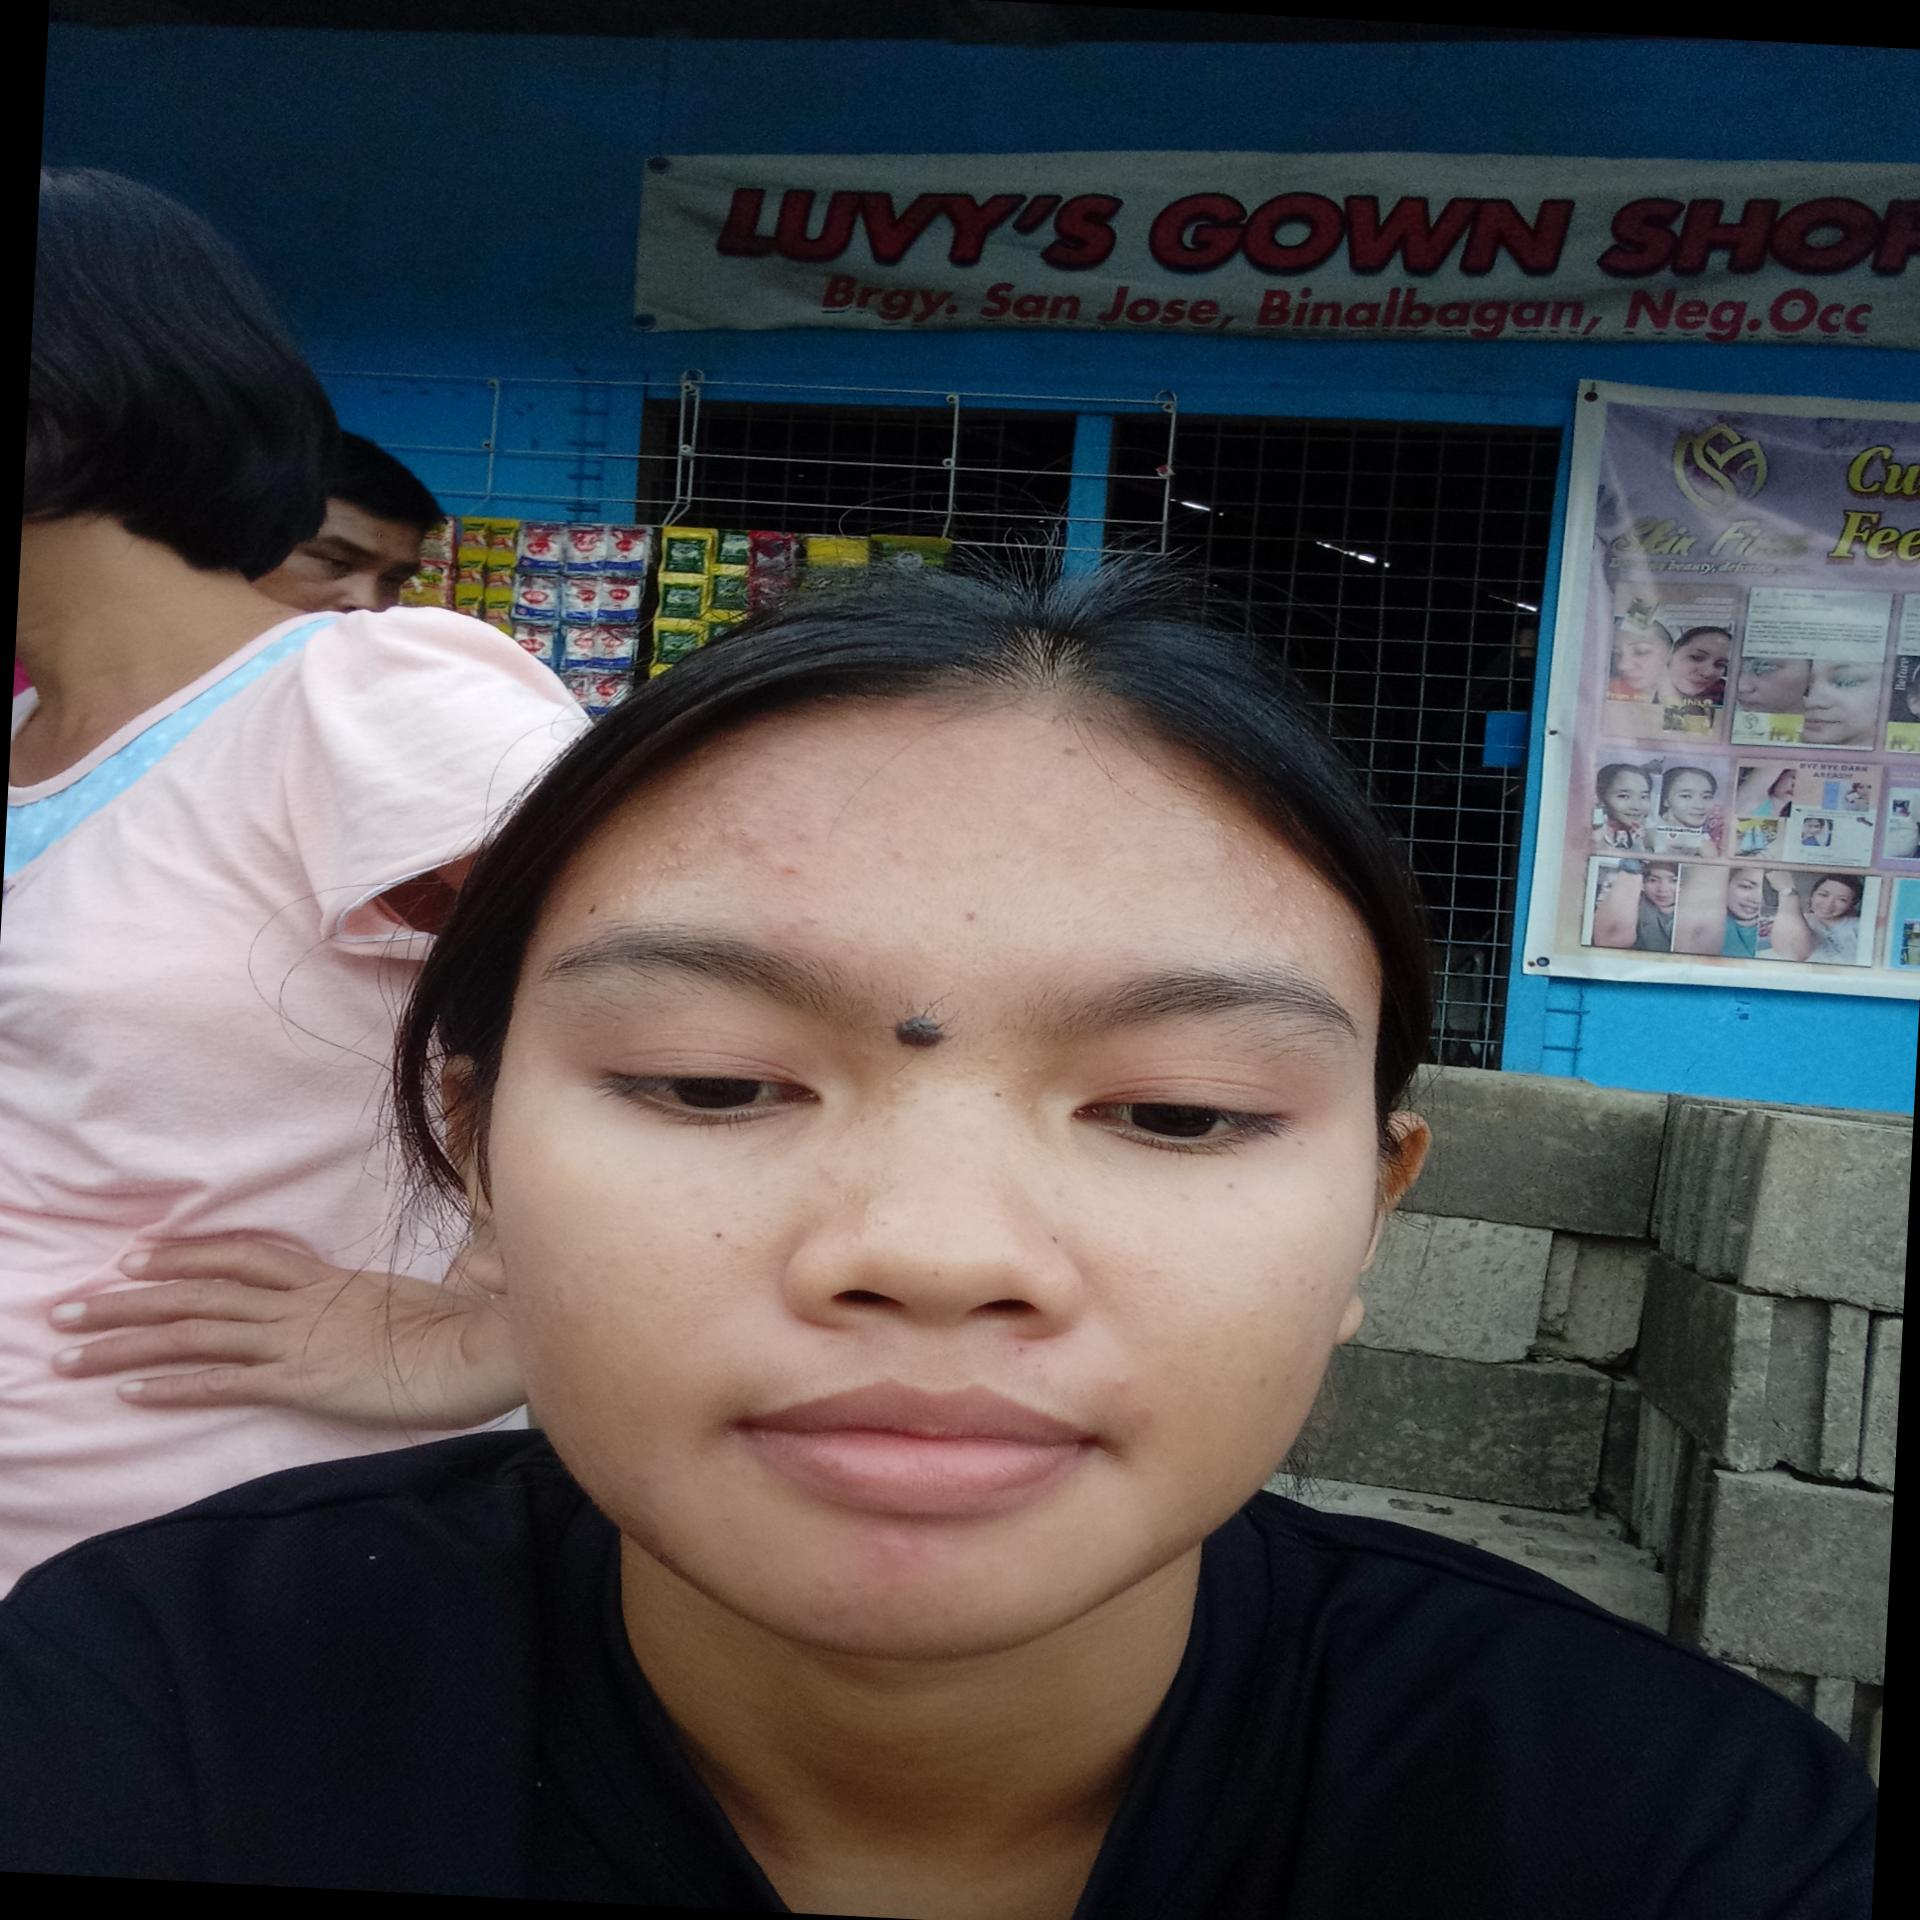Acne: (621, 768, 779, 888), (1206, 830, 1336, 934), (826, 1176, 893, 1248), (860, 1523, 928, 1579), (1108, 1368, 1160, 1431), (876, 1073, 918, 1138), (772, 909, 825, 948), (774, 862, 811, 884), (884, 842, 914, 867), (956, 904, 983, 930), (1007, 1340, 1034, 1357)
Englarged Pores: (684, 1204, 788, 1306), (1078, 1238, 1220, 1312)
